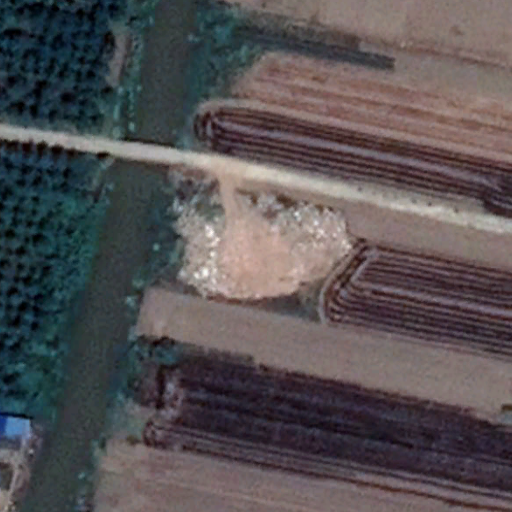msw: (176, 186, 352, 299)
